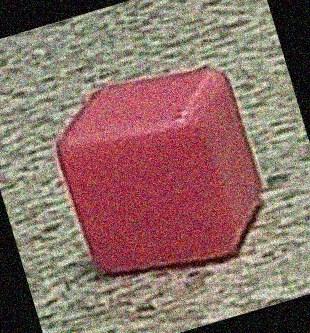red_cube: (42, 64, 282, 278)
